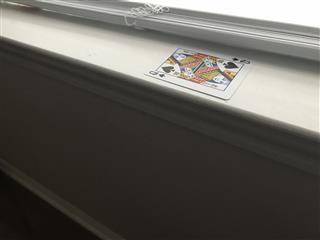QueenOfSpades: (143, 41, 255, 100)
